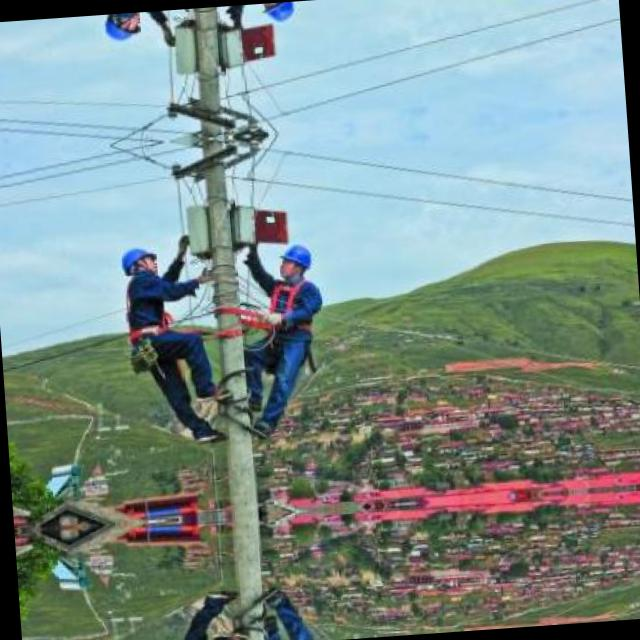helmet: (277, 238, 315, 282), (119, 242, 161, 278), (102, 12, 146, 46), (259, 1, 298, 28)
